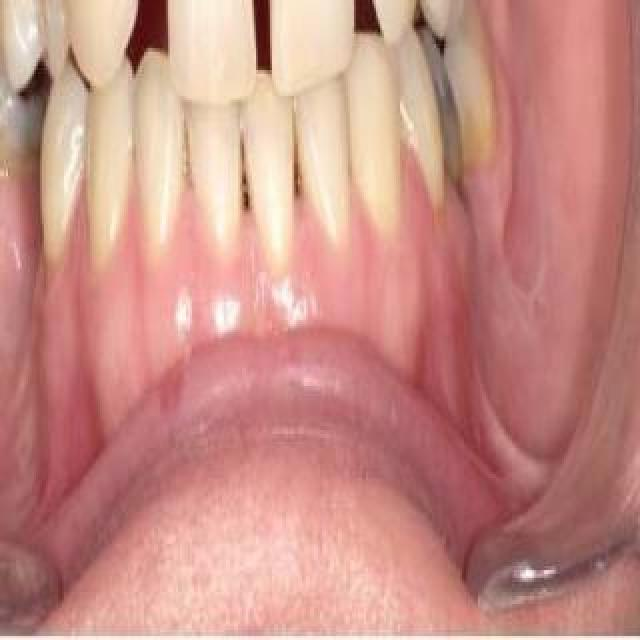missing: (5, 99, 63, 215)
spacing: (234, 0, 286, 86), (122, 0, 188, 58), (284, 133, 320, 219), (235, 145, 265, 231), (332, 0, 386, 30)
